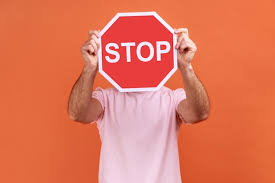stop sign: (98, 10, 176, 91)
